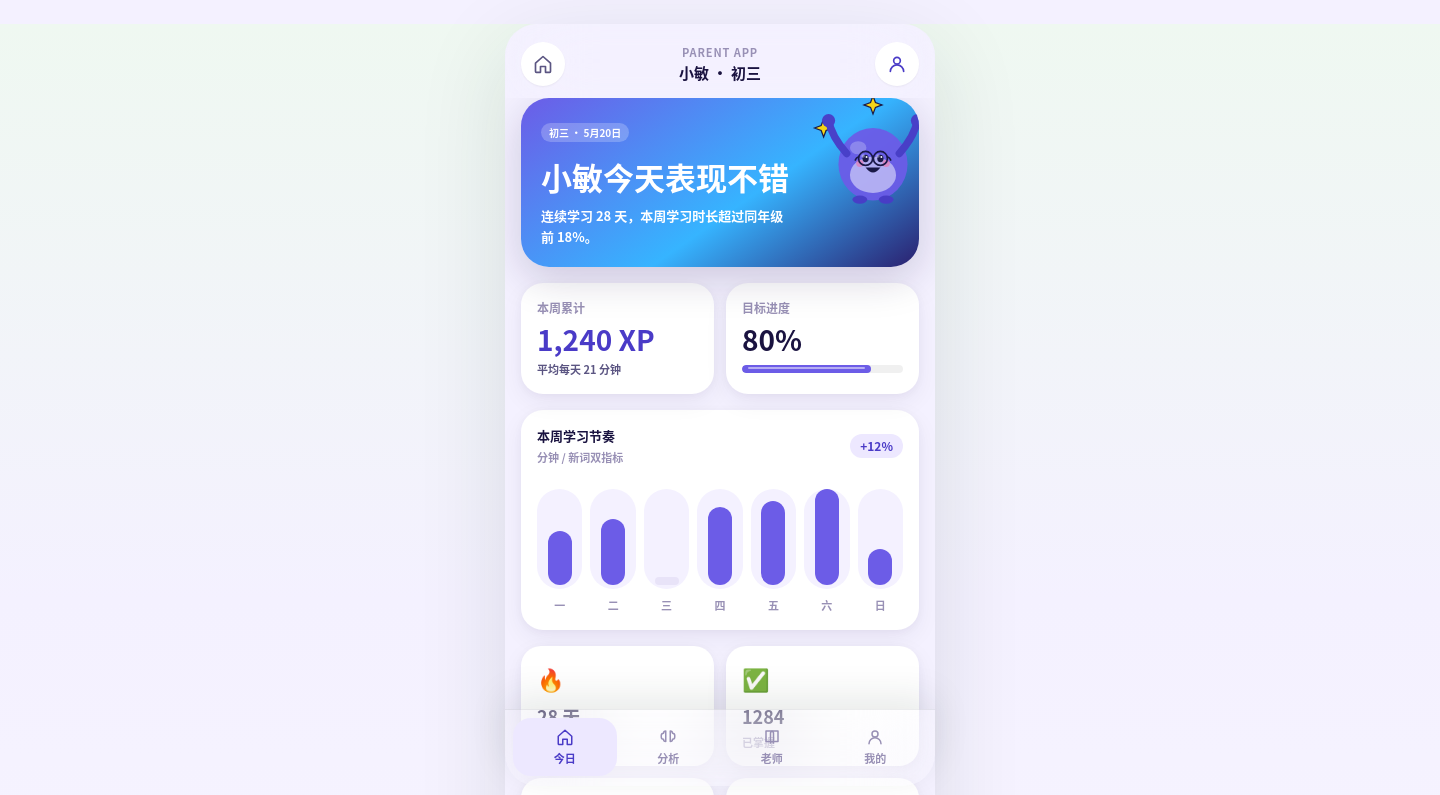
Test: ParentScreen › switches through analysis, teacher chat, and account tabs
Expected: the heading "小敏今天表现不错" is shown, 541,158 -> 791,197
Step 1. Click the button "分析" → (668, 747), box 616,718 -> 720,776
(page scrolled)
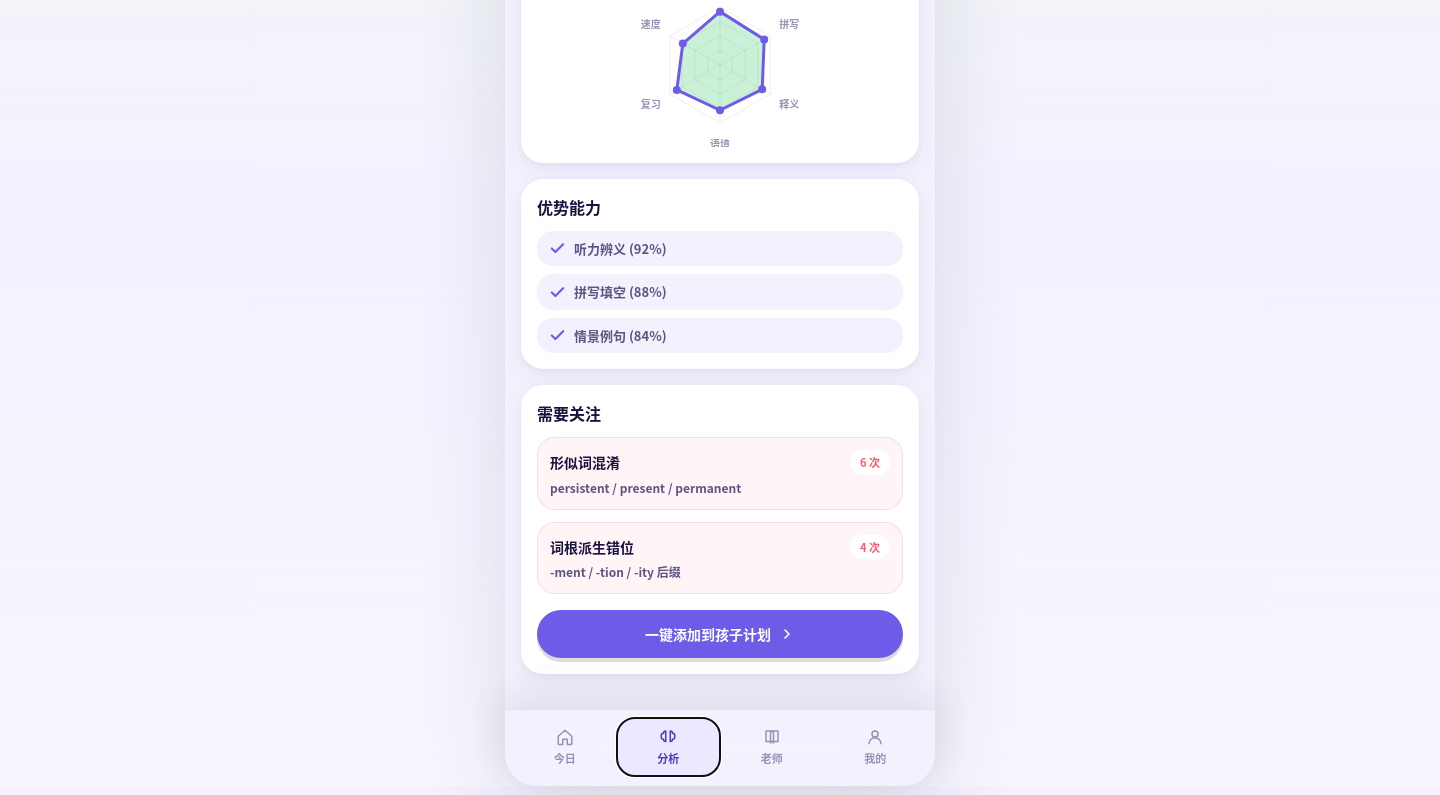
Result: the text "形似词混淆" is shown at 550,452 -> 620,473
Step 2. Click the button "一键添加到孩子计划" → (720, 634), box 537,610 -> 903,658
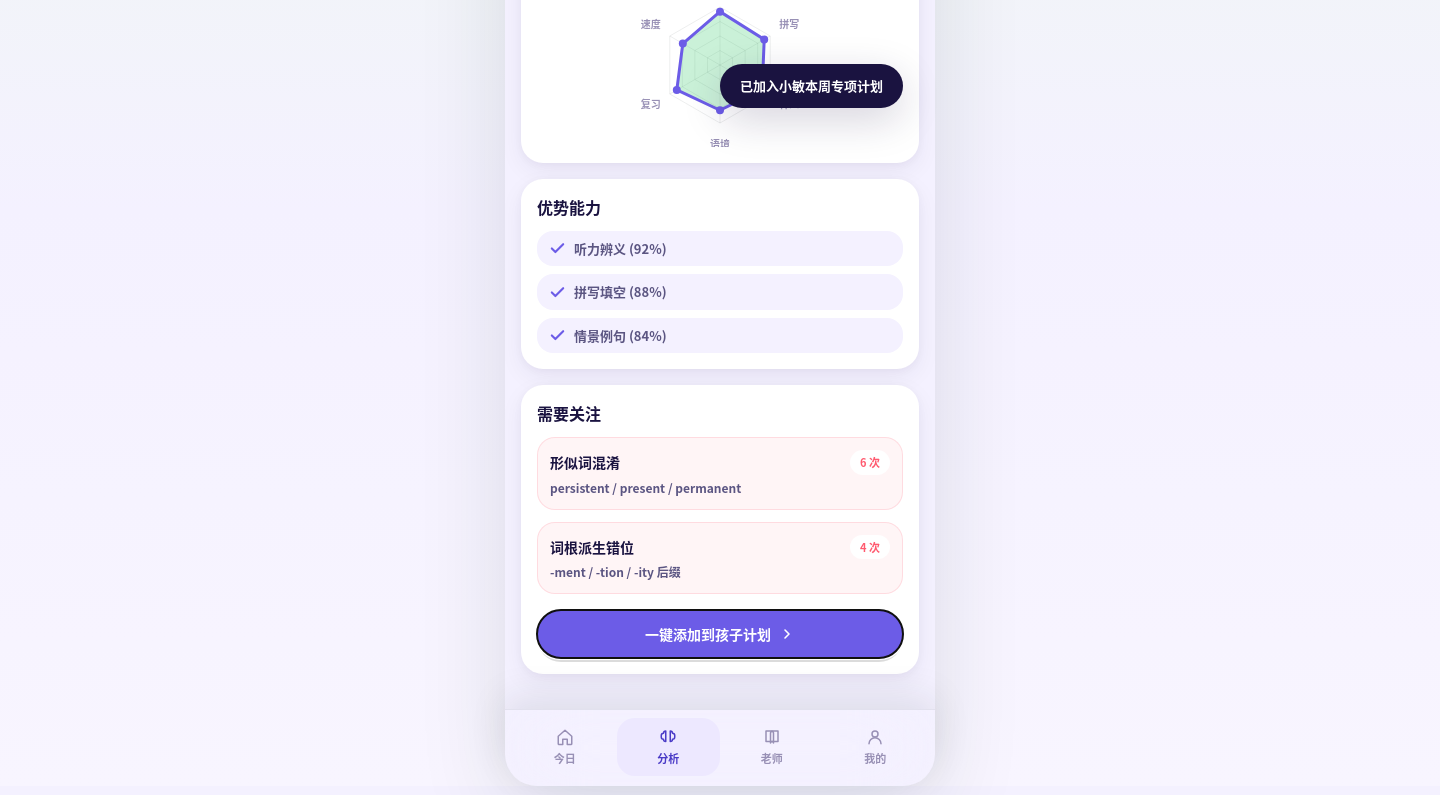
Result: the text "已加入小敏本周专项计划" is shown at 720,64 -> 903,108
Step 3. Click the button "老师" → (772, 747), box 720,718 -> 824,776
(page scrolled)
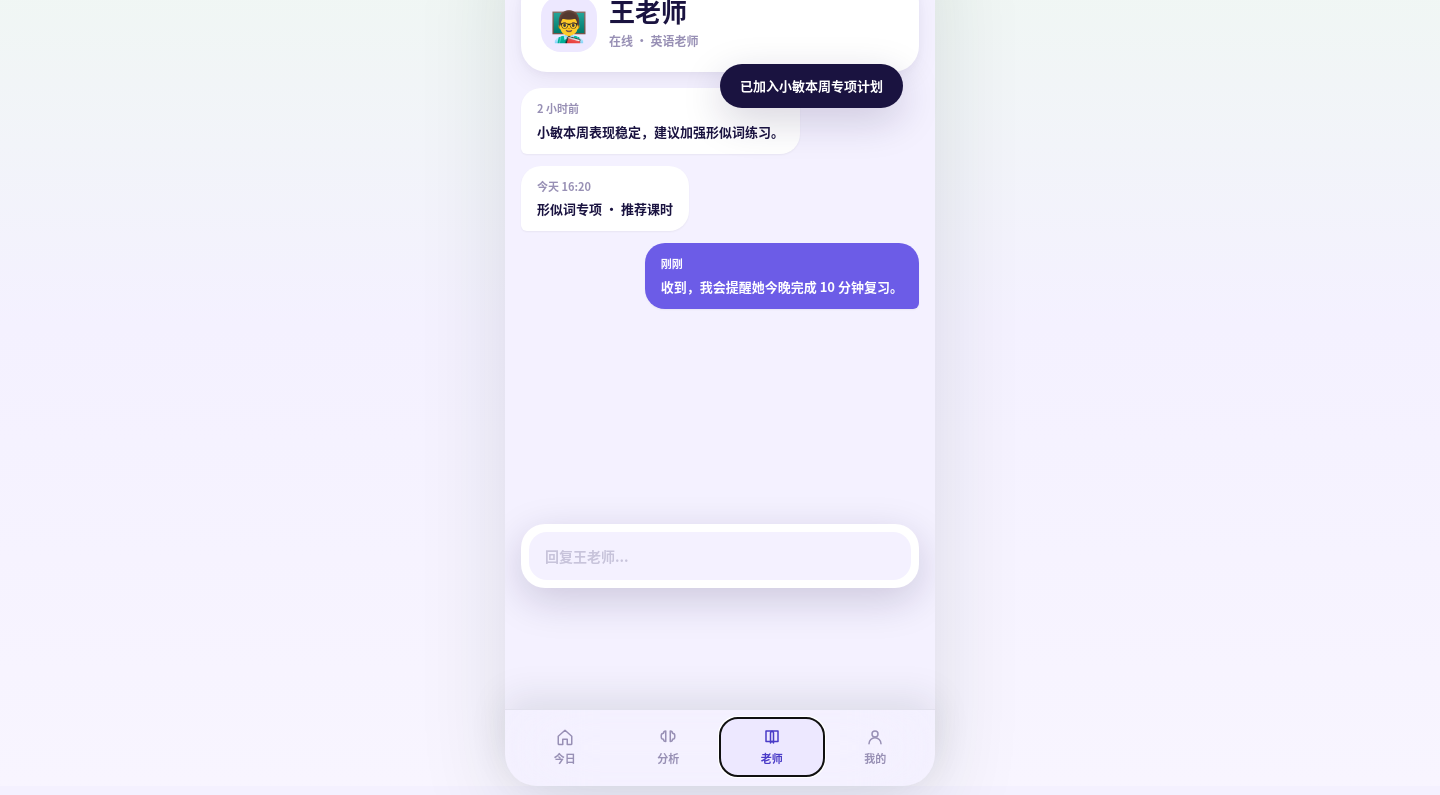
Result: the text "形似词专项 · 推荐课时" is shown at 537,198 -> 673,219
Result: the field with placeholder "回复王老师..." is shown at 529,532 -> 911,580
Step 4. Click the button "我的" → (875, 747), box 824,718 -> 927,776
(page scrolled)
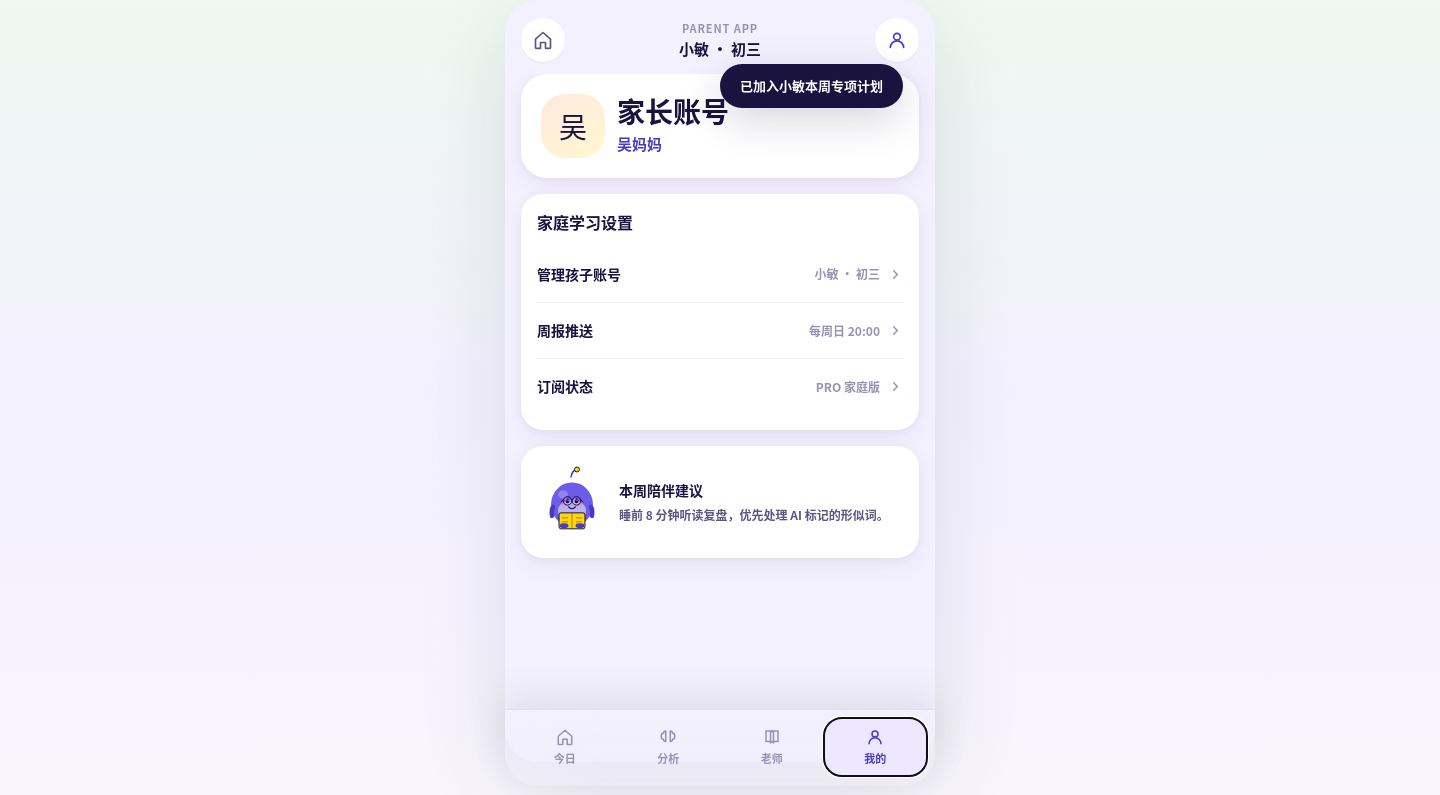
Result: the heading "家长账号" is shown at 617,97 -> 729,125
Result: the text "吴妈妈" is shown at 617,133 -> 662,154
Result: the text "管理孩子账号" is shown at 537,264 -> 621,284
